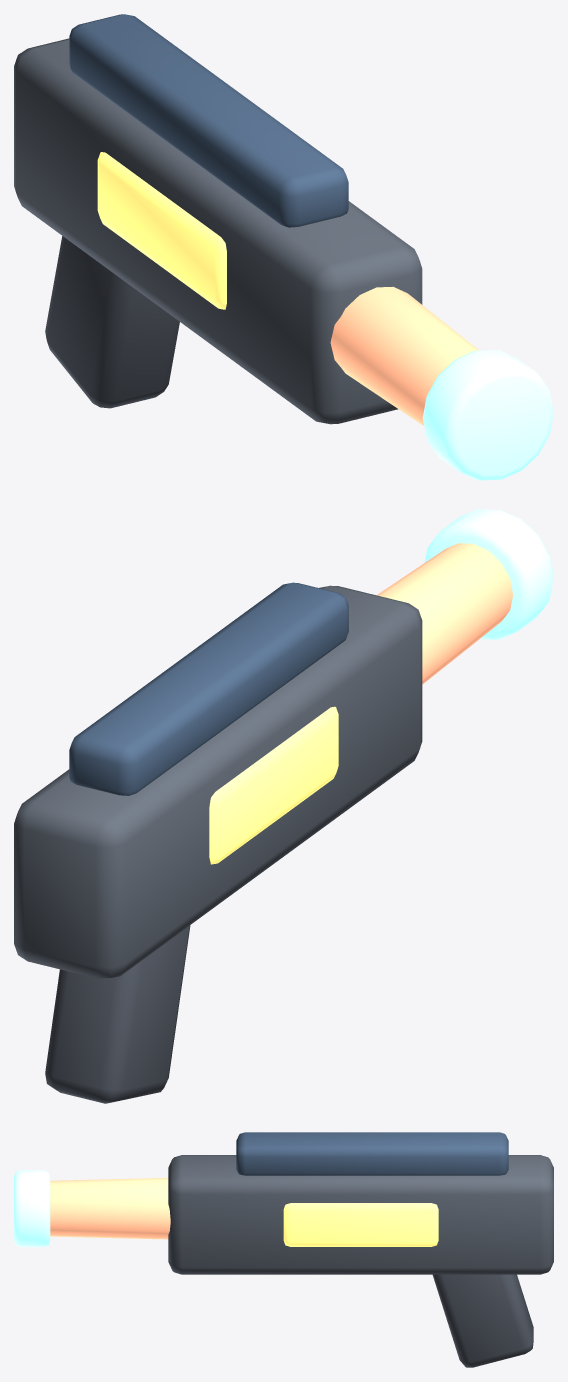
Rendered from Hunter_Blaster.glb.
3 views of the same model, one above another, from view 1: azimuth 30°, elevation 25°; view 2: azimuth 150°, elevation 25°; view 3: azimuth 270°, elevation 25° (orthographic). The views are drawn at different scales.
Visible parts, largest first — view 1: Receiver, TopRail, Grip, MuzzleRing, Barrel, EnergyCore; view 2: Receiver, TopRail, Grip, Barrel, EnergyCore, MuzzleRing; view 3: Receiver, TopRail, Grip, Barrel, EnergyCore, MuzzleRing.
Part boxes in pixels (box(x1,y1,x2,y2)): Receiver: box(14, 38, 422, 424); TopRail: box(69, 14, 348, 227); Grip: box(45, 236, 179, 408); MuzzleRing: box(422, 350, 553, 480); Barrel: box(330, 287, 479, 425); EnergyCore: box(97, 152, 226, 309); Receiver: box(14, 585, 422, 978); TopRail: box(69, 582, 348, 795); Grip: box(45, 925, 190, 1103); Barrel: box(377, 543, 512, 684); EnergyCore: box(209, 706, 338, 864); MuzzleRing: box(424, 509, 553, 639); Receiver: box(168, 1155, 553, 1274); TopRail: box(236, 1132, 508, 1175); Grip: box(432, 1274, 533, 1367); Barrel: box(50, 1177, 170, 1239); EnergyCore: box(283, 1203, 438, 1246); MuzzleRing: box(14, 1170, 50, 1247).
Bounding box in the file's own units: 0.076 × 0.2157 × 0.476.
